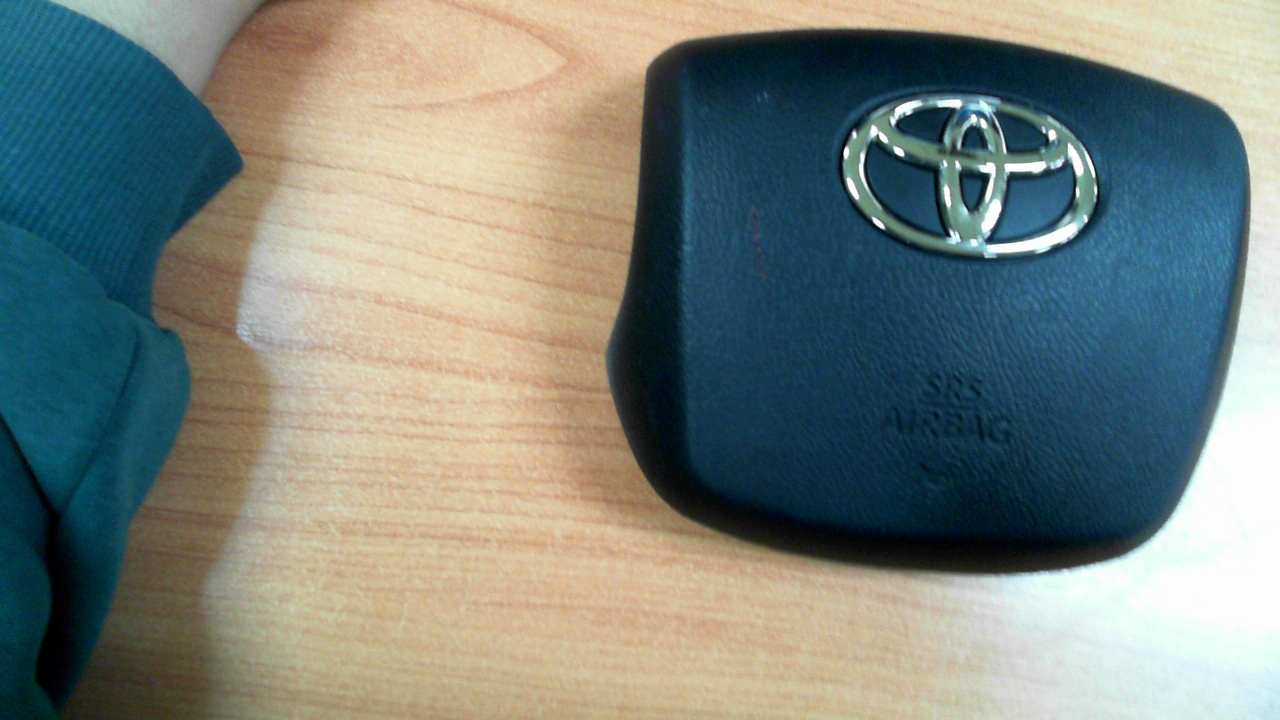Airbag: (605, 28, 1252, 577)
Toyota: (842, 93, 1098, 259)
